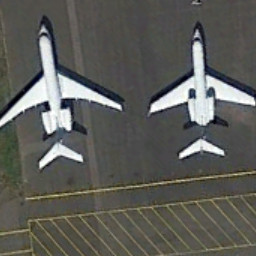Airplane: (1, 13, 127, 179), (141, 16, 256, 173)
